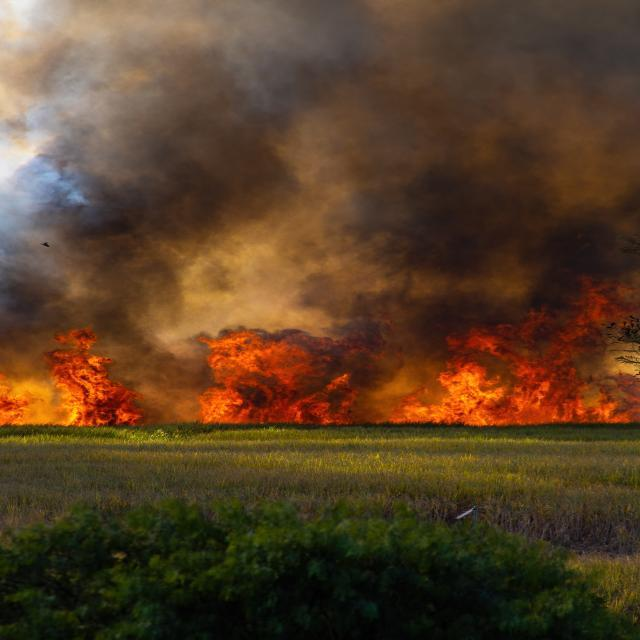Fire: (0, 320, 640, 430)
Smoke: (0, 0, 640, 321)
